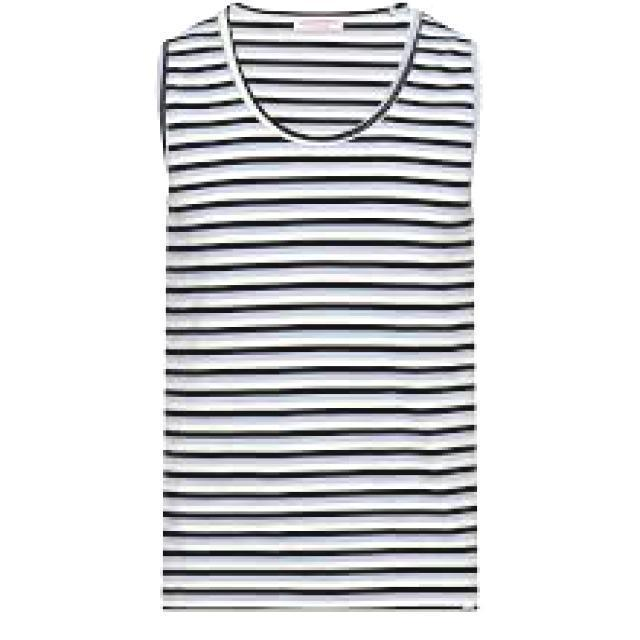no_vest: (157, 3, 485, 614)
